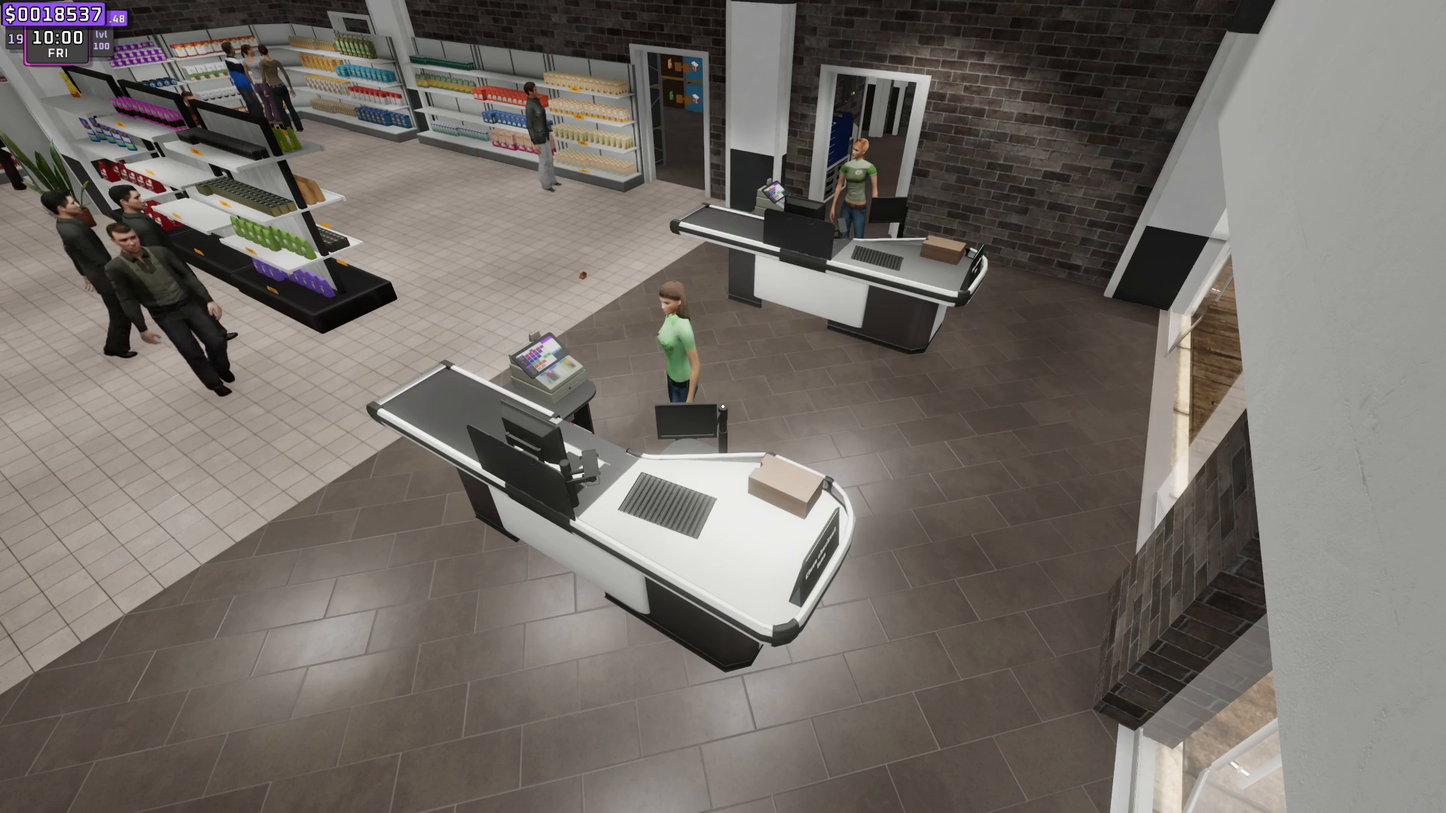Employee: (658, 293, 700, 398), (836, 142, 875, 238)
